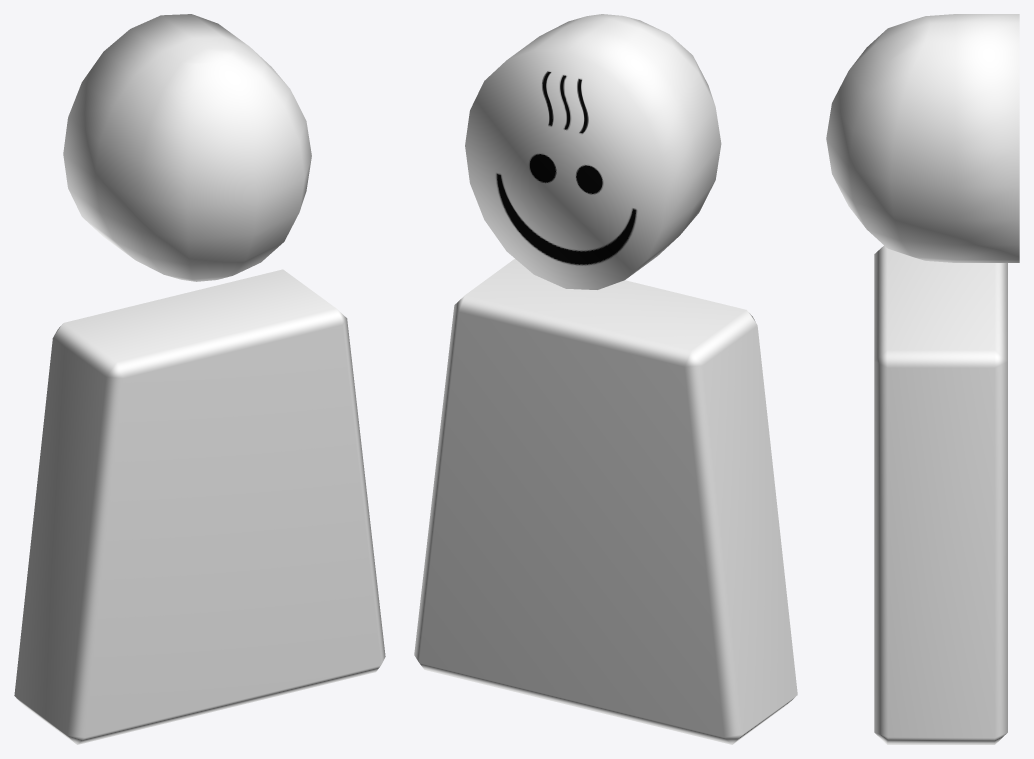
File: UserHead.gltf
The picture shows the model from 3 angles, left to right: view 1: azimuth 30°, elevation 25°; view 2: azimuth 150°, elevation 25°; view 3: azimuth 270°, elevation 25°; orthographic projection. The views are drawn at different scales.
Parts seen in each view (by area): view 1: polySurface5; view 2: polySurface5; view 3: polySurface5.
Part boxes in pixels (x1,y1,x2,y2): polySurface5: (14,14,385,744); polySurface5: (414,14,797,744); polySurface5: (826,14,1019,744).
Bounding box in the file's own units: 0.4718 × 0.9126 × 0.2467.
1 material, 1 textured.
